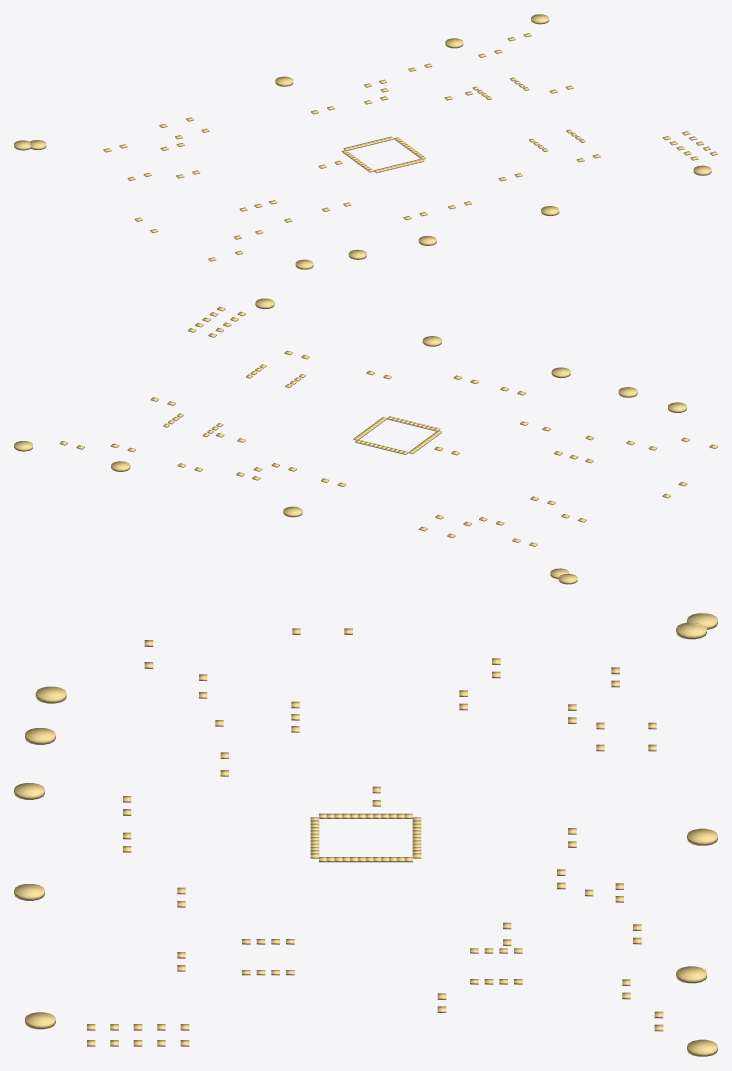
File: 11_L94_TopSMDGoldPads.glb
The picture shows the model from 3 angles, top to bottom: view 1: azimuth 30°, elevation 25°; view 2: azimuth 150°, elevation 25°; view 3: azimuth 270°, elevation 25°; orthographic projection. The views are drawn at different scales.
Visible parts, largest first — view 1: L94_TopSMDGoldPads; view 2: L94_TopSMDGoldPads; view 3: L94_TopSMDGoldPads.
Boxes of the visible parts, left/top/right/bottom form: L94_TopSMDGoldPads: left=14, top=14, right=717, bottom=269; L94_TopSMDGoldPads: left=14, top=298, right=717, bottom=584; L94_TopSMDGoldPads: left=14, top=613, right=717, bottom=1056.
Bounding box in the file's own units: 1.34 × 0.006 × 0.908.
